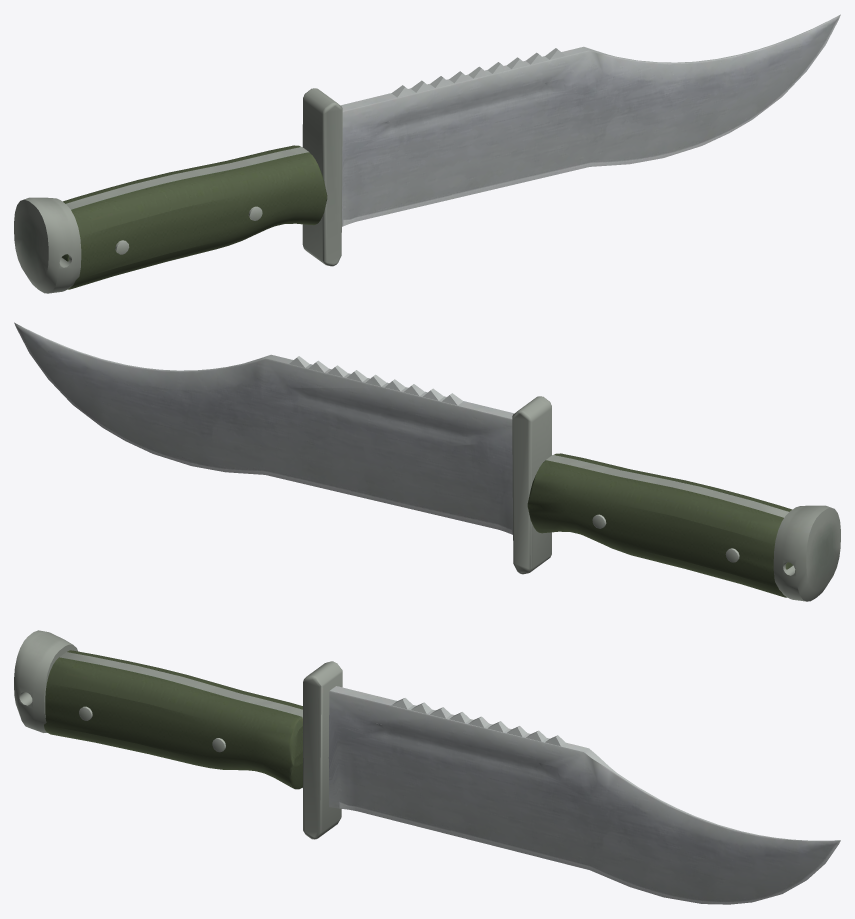
File: bowie_lod1.glb
The picture shows the model from 3 angles, top to bottom: view 1: azimuth 30°, elevation 25°; view 2: azimuth 150°, elevation 25°; view 3: azimuth 330°, elevation 25°; orthographic projection.
Parts seen in each view (by area): view 1: body; view 2: body; view 3: body.
Part boxes in pixels (bbox=[...]): body: bbox=[14, 14, 840, 293]; body: bbox=[14, 322, 840, 601]; body: bbox=[14, 630, 840, 904].
Size of the model in its own units: 0.335 by 0.0645 by 0.0288.
5 materials, 5 textured.
